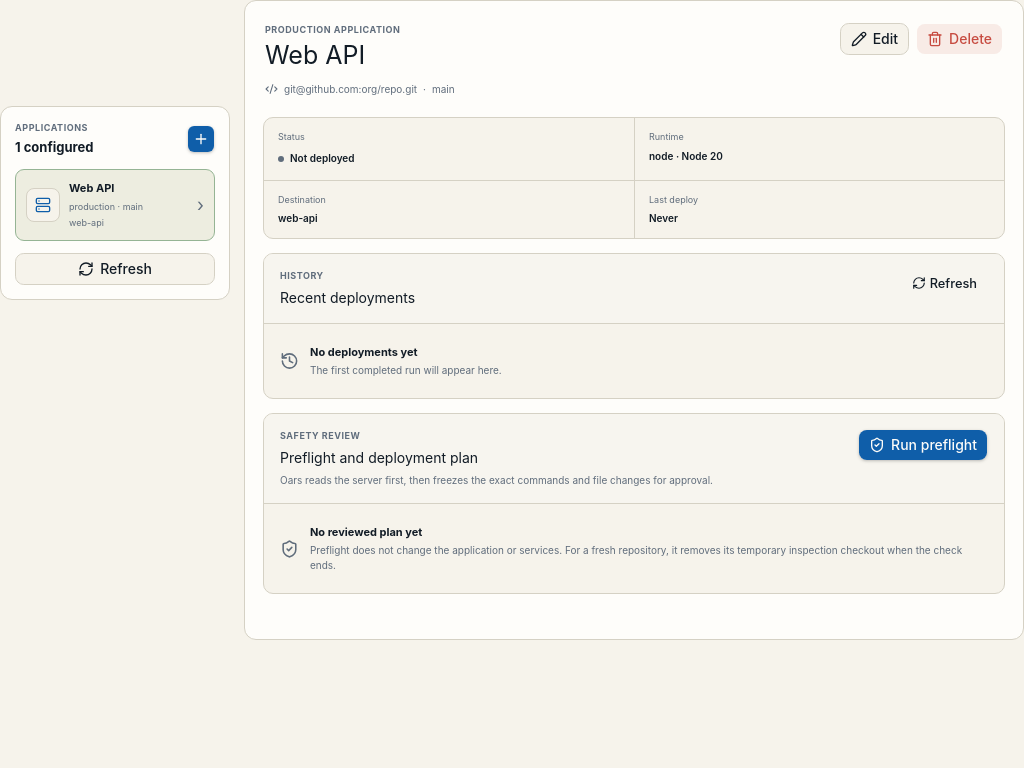
it: DeployTab Integration Suite › Scenario 2: Preflight blockers halting deployment
The image size is (1024, 768).
Check: the text "Web API" is shown, box [69,181,114,195]
Click the button "Run preflight" at (923, 445), box [858,429,988,461]
(page scrolled)
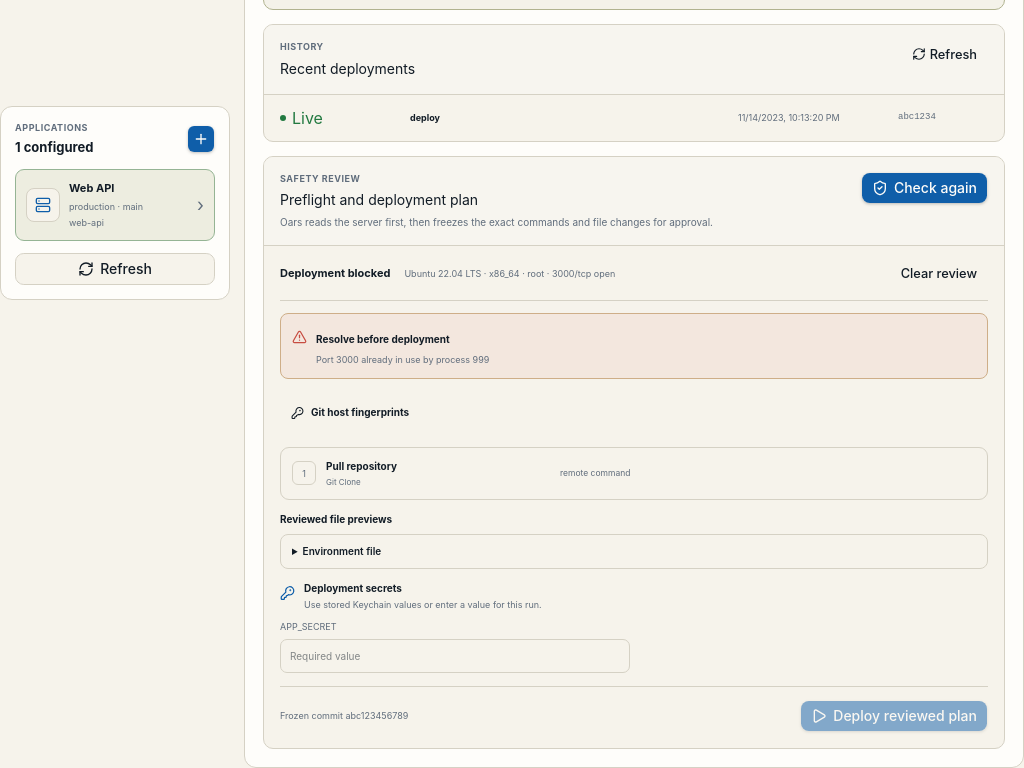
Check: the text "Deployment blocked" is shown, box [280,265,390,282]
Check: the text "Port 3000 already in use by process 999" is shown, box [316,353,489,367]
Check: the button "Deploy reviewed plan" is disabled, box [800,700,988,732]
